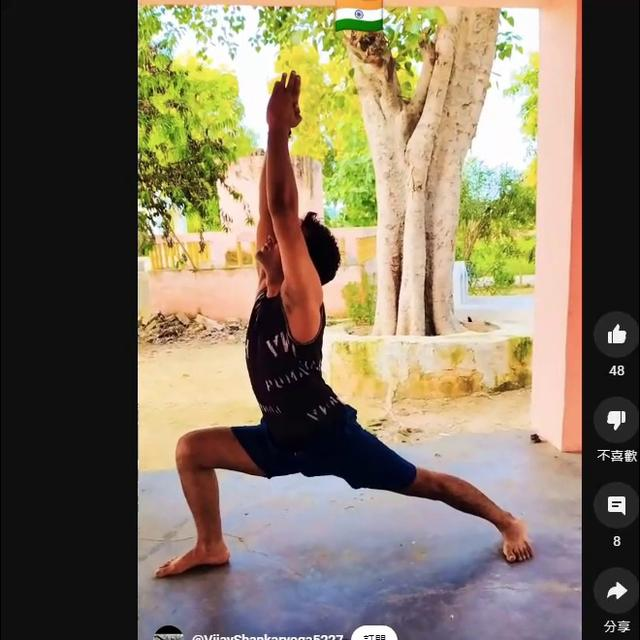Warrior_I: (143, 63, 560, 584)
